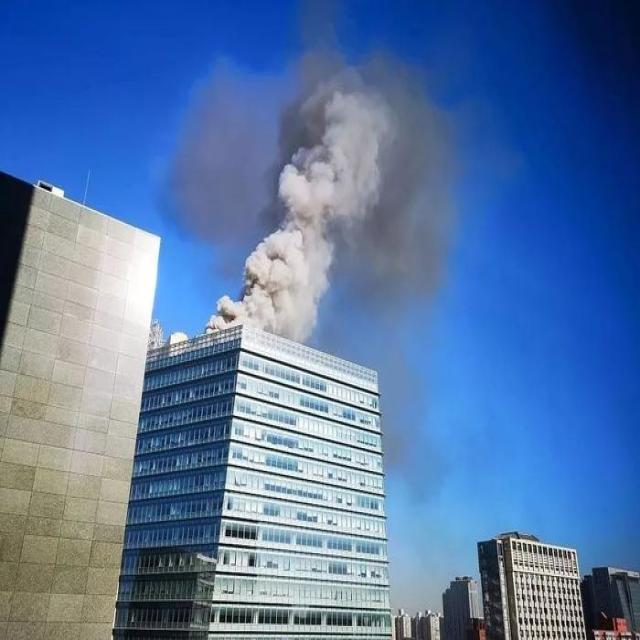Smoke: (200, 85, 402, 338)
